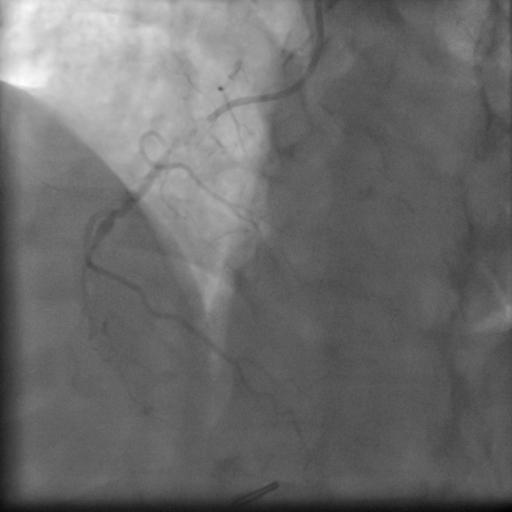Stenosis: (158, 118, 216, 147)
